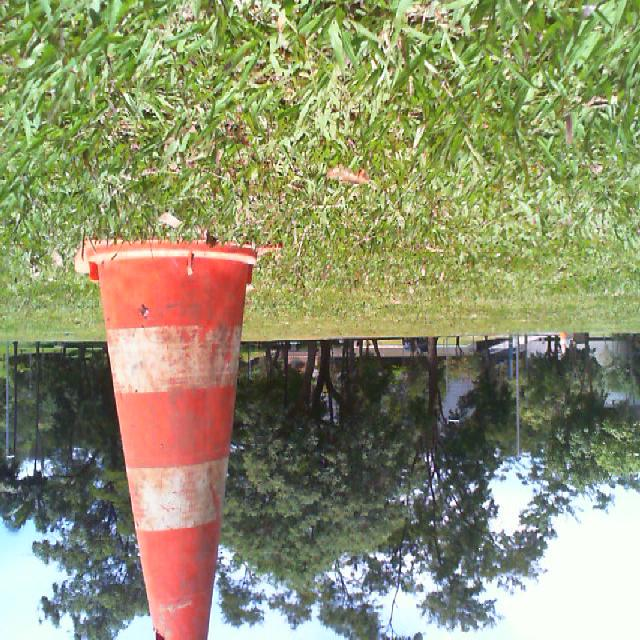cone: (74, 237, 282, 639)
